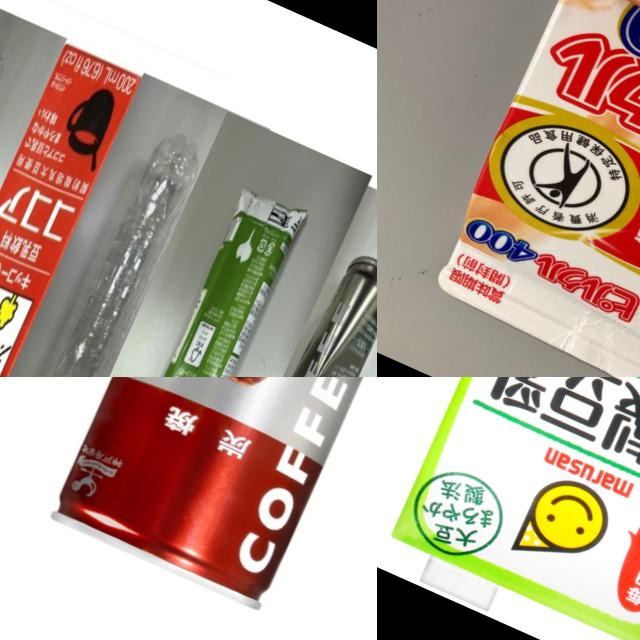Aluminium Foil: (407, 0, 640, 377), (391, 377, 640, 640), (0, 29, 152, 377), (129, 181, 312, 377)
Can: (41, 377, 377, 627), (237, 249, 377, 377)
Transparent Plastic Bottle: (6, 124, 212, 377)
